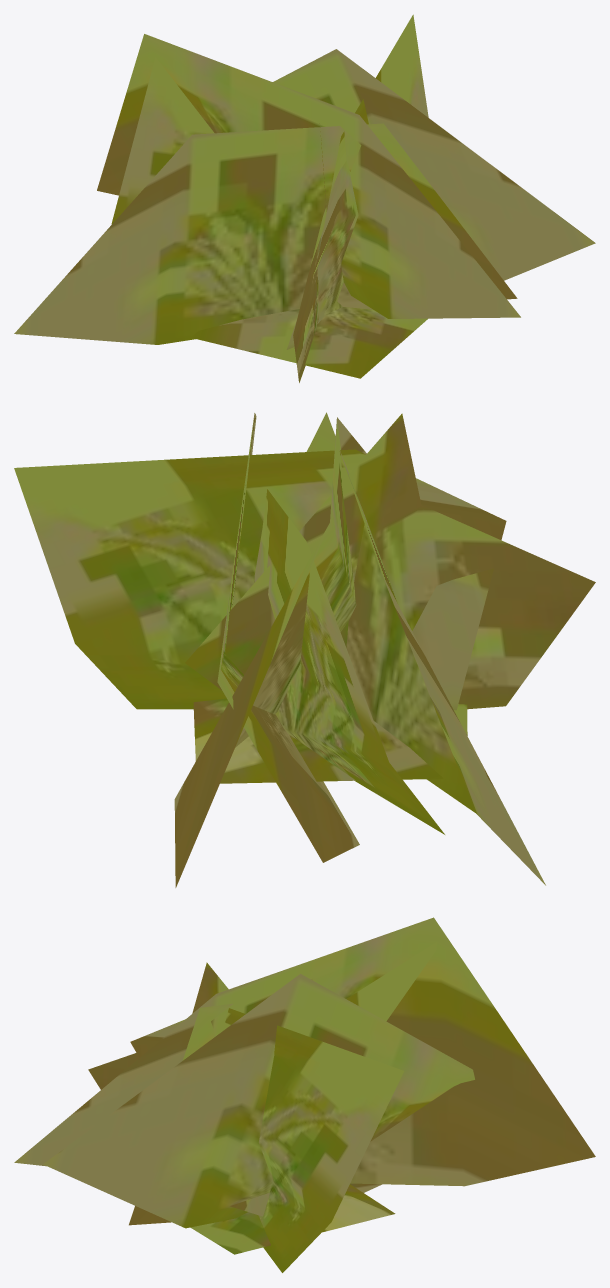
File: grass_aged.glb
The picture shows the model from 3 angles, top to bottom: view 1: azimuth 30°, elevation 25°; view 2: azimuth 150°, elevation 25°; view 3: azimuth 270°, elevation 25°; orthographic projection. The views are drawn at different scales.
Parts seen in each view (by area): view 1: Grass main aged; view 2: Grass main aged; view 3: Grass main aged.
Part boxes in pixels (x1,y1,x2,y2): Grass main aged: [14, 14, 595, 382]; Grass main aged: [14, 412, 595, 887]; Grass main aged: [14, 917, 595, 1272].
Bounding box in the file's own units: 0.3598 × 0.2372 × 0.4579.
Materials: 1 (1 with a texture image).
